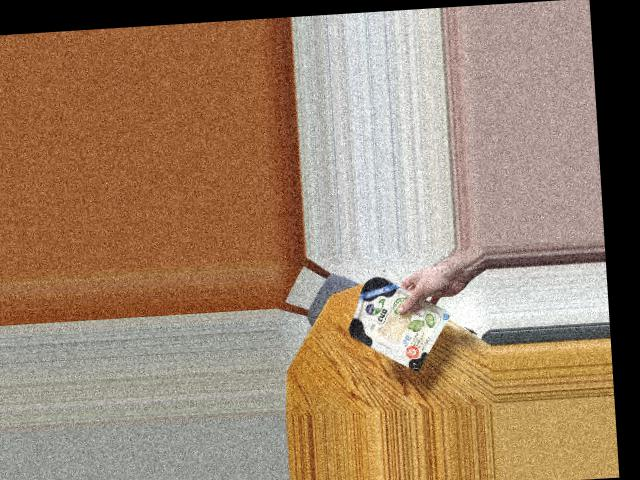cheese: (338, 273, 439, 367)
